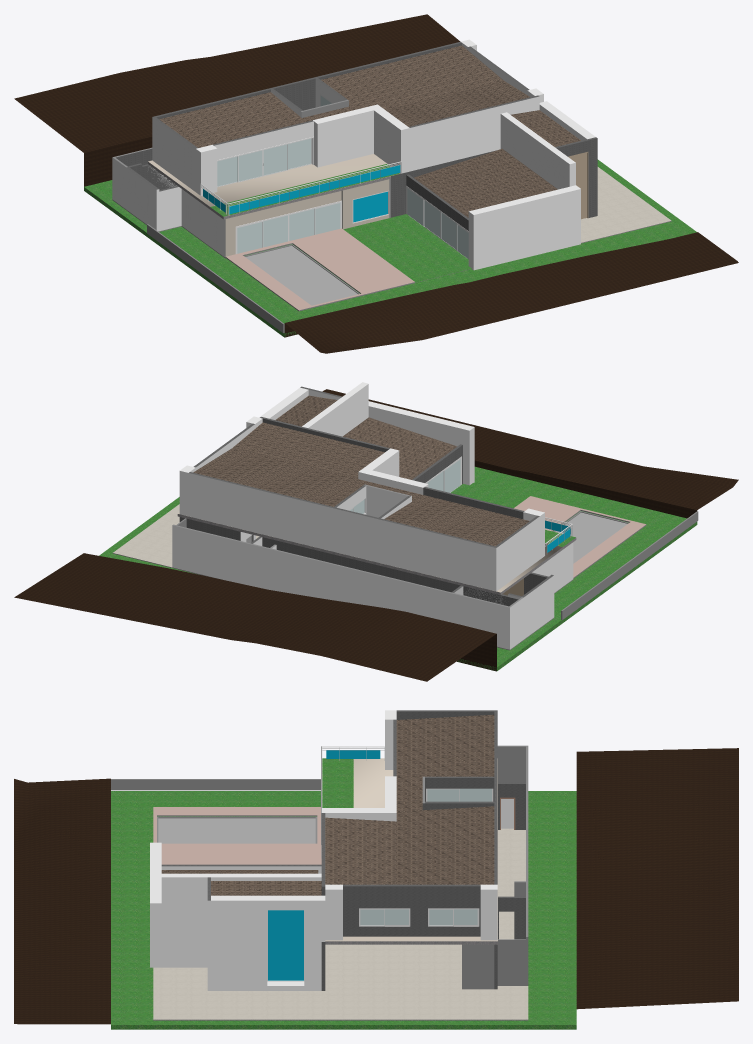
File: small.glb
3 renders of one model, top to bottom at view 1: azimuth 30°, elevation 25°; view 2: azimuth 150°, elevation 25°; view 3: azimuth 270°, elevation 25°, orthographic. The views are drawn at different scales.
Parts seen in each view (by area): view 1: Paredes, Topografia, Pisos, Telhados, Plataformas, Porta envidraçada de correr quádrupla com revestimento, Guarda-corpos, M_Fixo, PORTA PIVOTANTE; view 2: Paredes, Topografia, Telhados, Pisos, Plataformas, Porta envidraçada de correr quádrupla com revestimento, Guarda-corpos; view 3: Topografia, Paredes, Pisos, Plataformas, Telhados, Janela de correr - 2 Painéis, M_Fixo, Guarda-corpos.
Part boxes in pixels (x1,y1,x2,y2): Paredes: (112, 39, 597, 333); Topografia: (14, 14, 738, 353); Pisos: (112, 154, 671, 311); Telhados: (159, 45, 580, 217); Plataformas: (84, 159, 696, 337); Porta envidraçada de correr quádrupla com revestimento: (217, 136, 468, 258); Guarda-corpos: (200, 162, 401, 215); M_Fixo: (352, 190, 389, 223); PORTA PIVOTANTE: (568, 152, 588, 219); Paredes: (172, 382, 698, 649); Topografia: (14, 389, 738, 681); Telhados: (193, 395, 529, 546); Pisos: (112, 483, 646, 650); Plataformas: (99, 466, 697, 671); Porta envidraçada de correr quádrupla com revestimento: (425, 456, 461, 492); Guarda-corpos: (545, 519, 572, 555); Topografia: (14, 748, 738, 1024); Paredes: (111, 710, 528, 990); Pisos: (153, 758, 528, 1020); Plataformas: (111, 791, 576, 1029); Telhados: (161, 714, 494, 895); Janela de correr - 2 Painéis: (359, 788, 493, 926); M_Fixo: (267, 910, 304, 986); Guarda-corpos: (321, 747, 384, 858).
Size of the model in its own units: 32.91 by 7.8 by 42.93.
Materials: 44 (8 with a texture image).
